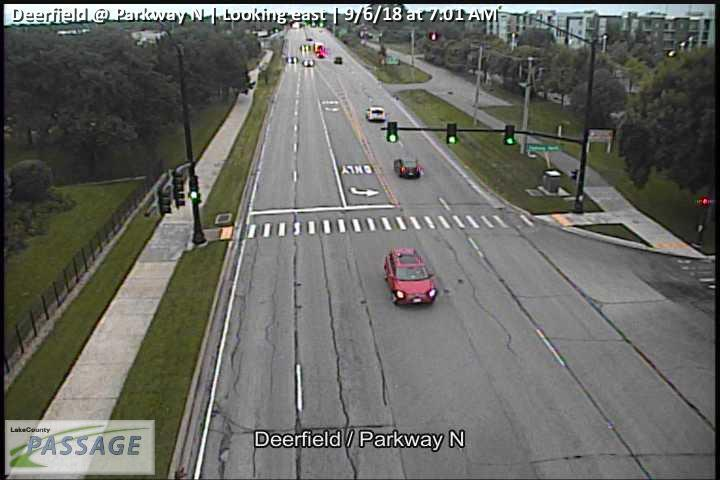Sedan: (385, 248, 436, 305), (394, 157, 422, 179), (366, 108, 385, 122), (303, 59, 315, 67), (286, 56, 297, 64), (334, 56, 342, 64)
